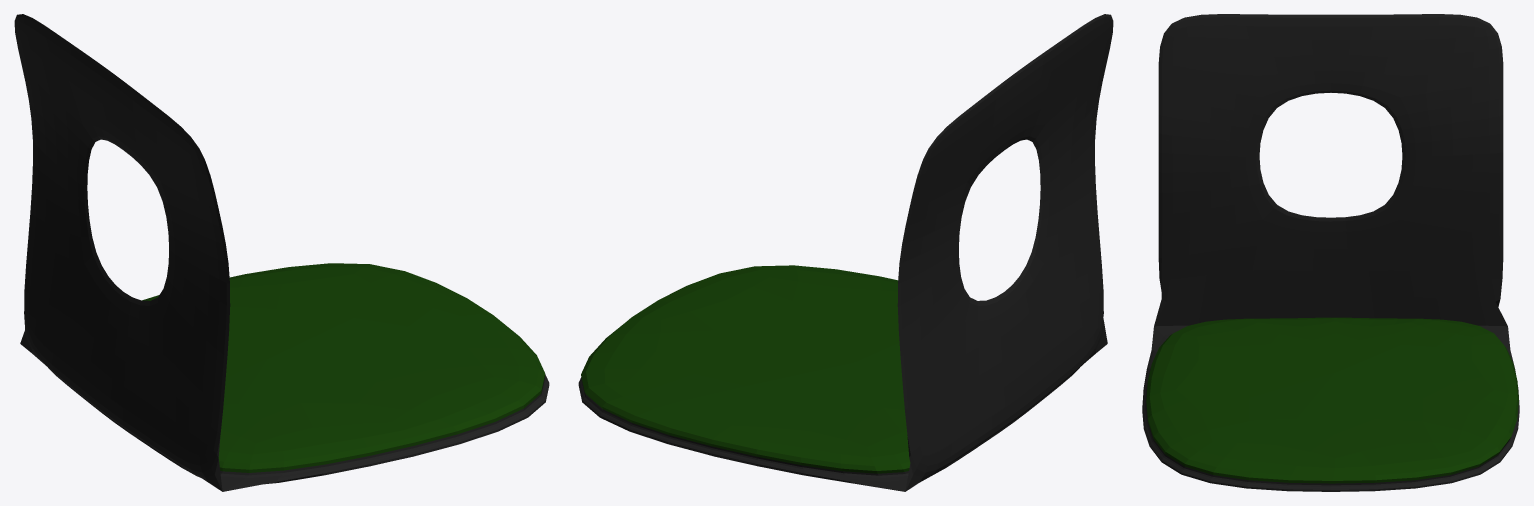
The model's file is WaChair.fbx.
The picture shows the model from 3 angles, left to right: view 1: azimuth 30°, elevation 25°; view 2: azimuth 150°, elevation 25°; view 3: azimuth 270°, elevation 25°; orthographic projection. The views are drawn at different scales.
Visible parts, largest first — view 1: Circle; view 2: Circle; view 3: Circle.
Part boxes in pixels (bbox=[...]): Circle: bbox=[14, 14, 549, 491]; Circle: bbox=[578, 14, 1113, 491]; Circle: bbox=[1142, 14, 1519, 491].
Bounding box in the file's own units: 63.65 × 56.07 × 60.34.
